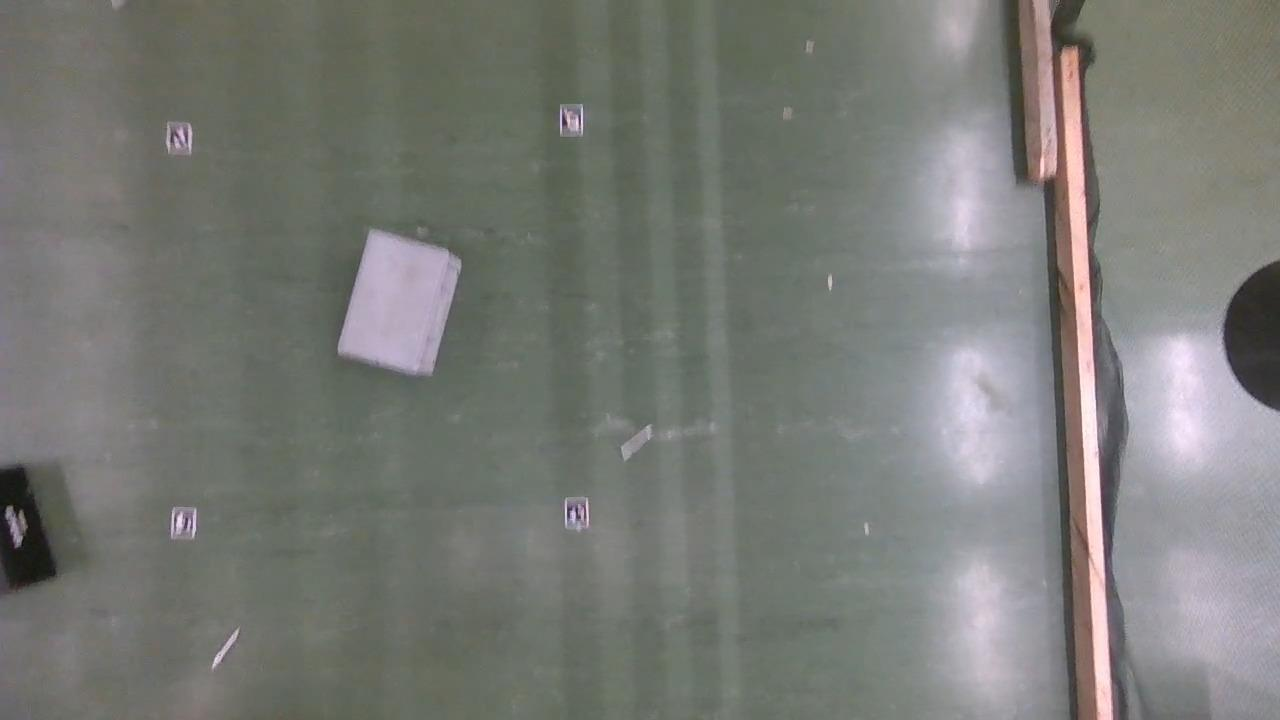probes: (211, 625, 239, 670), (620, 424, 652, 462)
rako: (337, 230, 459, 374)
